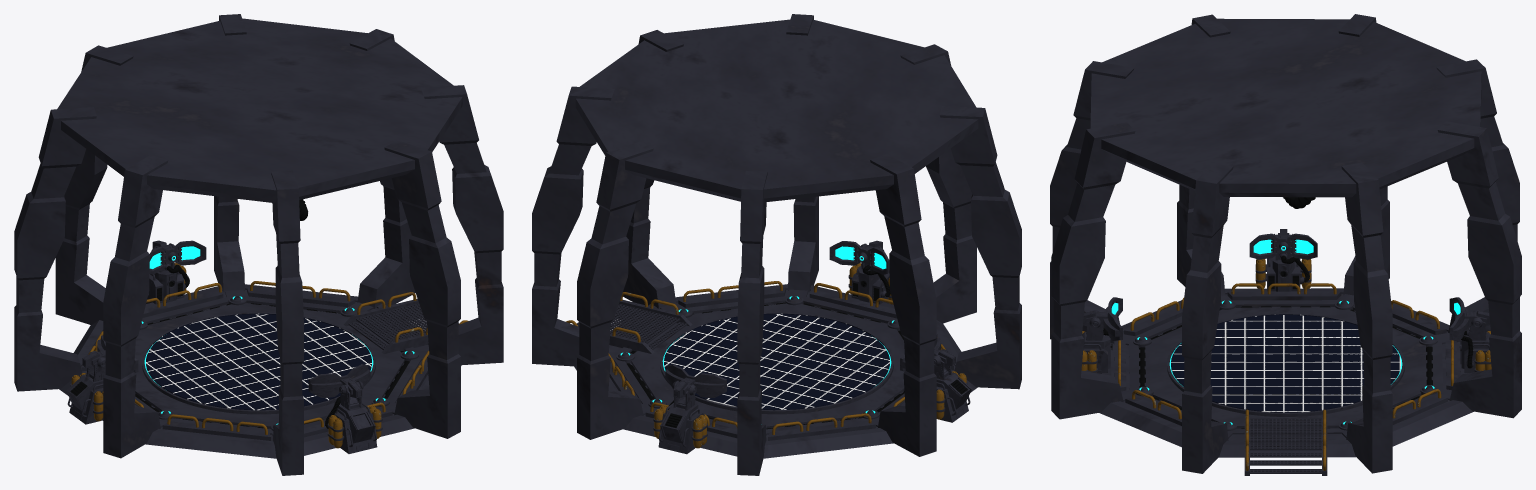
File: Hologram_V1.fbx
The picture shows the model from 3 angles, left to right: view 1: azimuth 30°, elevation 25°; view 2: azimuth 150°, elevation 25°; view 3: azimuth 270°, elevation 25°; orthographic projection.
Visible parts, largest first — view 1: Frame, HologramPlatform, WalkWay, Generator_Left, Guardrails, Generator_Mid, Generator_Left_Top, Generator_Right_Top, Generator_Right, Generator_Mid_Top; view 2: Frame, HologramPlatform, WalkWay, Generator_Right, Guardrails, Generator_Mid, Generator_Left_Top, Generator_Right_Top, Generator_Left; view 3: Frame, HologramPlatform, WalkWay, Guardrails, Generator_Mid, Generator_Mid_Top, Generator_Right, Generator_Left, Generator_Right_Top, Generator_Left_Top.
Boxes of the visible parts, left/top/right/bottom form: Frame: left=14, top=14, right=503, bottom=475; HologramPlatform: left=142, top=312, right=375, bottom=414; WalkWay: left=343, top=298, right=459, bottom=353; Generator_Left: left=325, top=381, right=382, bottom=453; Guardrails: left=88, top=281, right=468, bottom=434; Generator_Mid: left=66, top=357, right=105, bottom=424; Generator_Left_Top: left=308, top=364, right=370, bottom=398; Generator_Right_Top: left=149, top=240, right=206, bottom=274; Generator_Right: left=146, top=244, right=189, bottom=304; Generator_Mid_Top: left=82, top=335, right=138, bottom=372; Frame: left=532, top=14, right=1021, bottom=475; HologramPlatform: left=660, top=312, right=893, bottom=414; WalkWay: left=577, top=300, right=692, bottom=353; Generator_Right: left=653, top=381, right=707, bottom=454; Guardrails: left=565, top=281, right=945, bottom=434; Generator_Mid: left=934, top=355, right=971, bottom=422; Generator_Left_Top: left=829, top=240, right=889, bottom=274; Generator_Right_Top: left=665, top=364, right=726, bottom=398; Generator_Left: left=848, top=244, right=893, bottom=304; Frame: left=1050, top=14, right=1521, bottom=473; HologramPlatform: left=1167, top=313, right=1404, bottom=416; WalkWay: left=1244, top=415, right=1327, bottom=475; Guardrails: left=1118, top=283, right=1453, bottom=470; Generator_Mid: left=1255, top=234, right=1311, bottom=291; Generator_Mid_Top: left=1249, top=229, right=1317, bottom=259; Generator_Right: left=1460, top=311, right=1491, bottom=372; Generator_Left: left=1081, top=311, right=1110, bottom=373; Generator_Right_Top: left=1449, top=297, right=1490, bottom=341; Generator_Left_Top: left=1083, top=297, right=1122, bottom=341.
Size of the model in its own units: 942 by 608 by 937.
